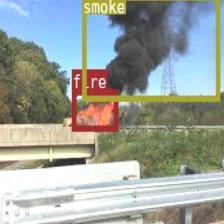fire: (71, 88, 117, 130)
smoke: (81, 0, 219, 100)
